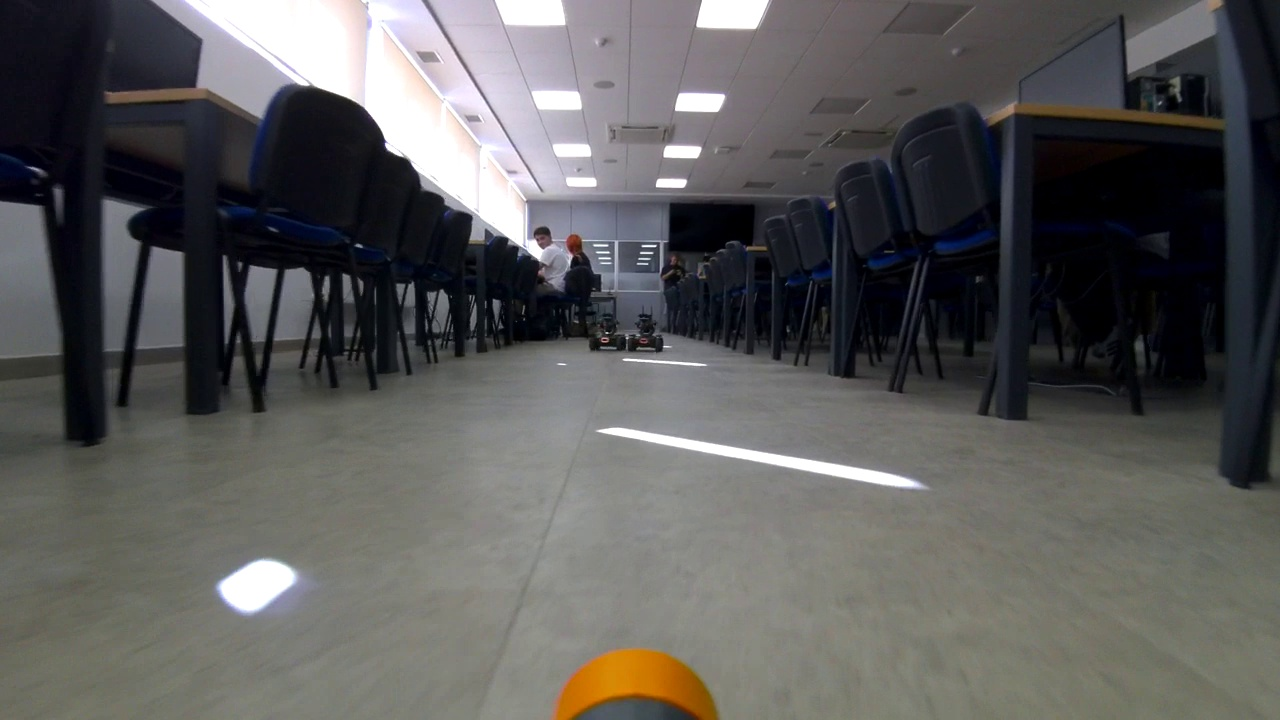robot: (631, 315, 668, 354), (587, 312, 625, 347)
